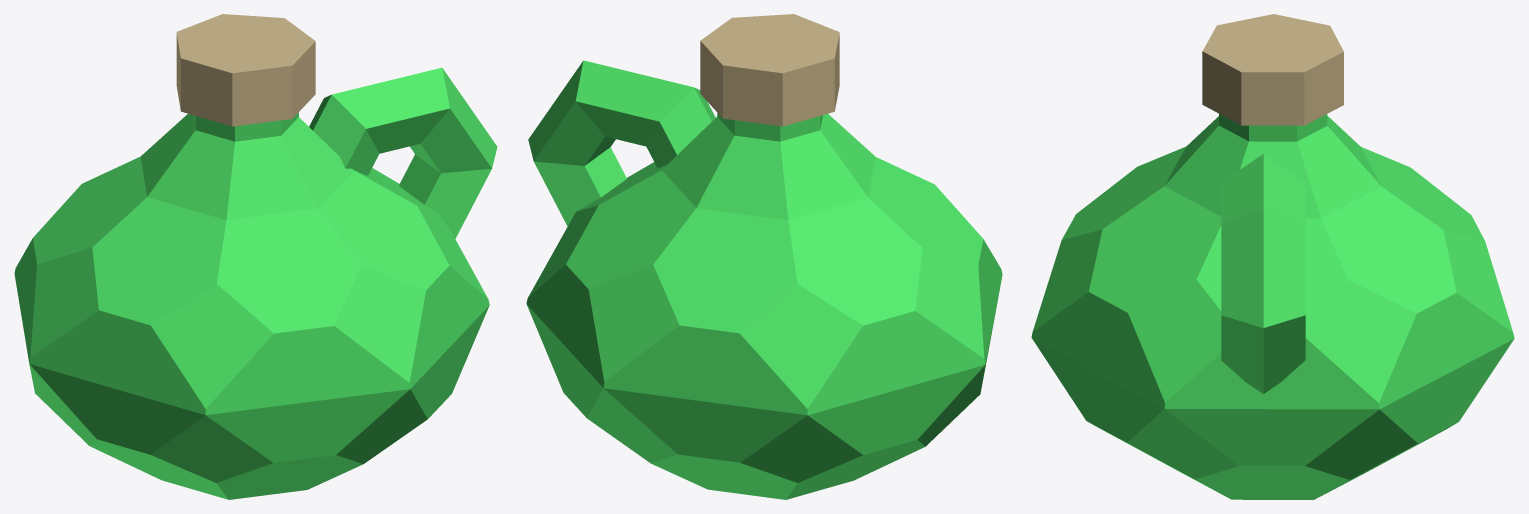
Rendered from ShortHandlePotion.040.fbx.
The picture shows the model from 3 angles, left to right: view 1: azimuth 30°, elevation 25°; view 2: azimuth 150°, elevation 25°; view 3: azimuth 270°, elevation 25°; orthographic projection.
Visible parts, largest first — view 1: ShortHandlePotion.040; view 2: ShortHandlePotion.040; view 3: ShortHandlePotion.040.
Part boxes in pixels (x1,y1,x2,y2): ShortHandlePotion.040: [14, 14, 497, 499]; ShortHandlePotion.040: [526, 14, 1002, 499]; ShortHandlePotion.040: [1031, 14, 1514, 499].
Bounding box in the file's own units: 14.76 × 12.73 × 13.29.
